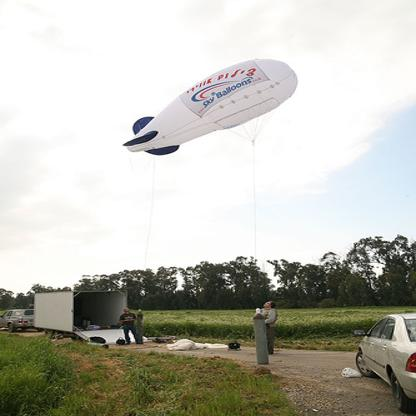Airship: (118, 57, 309, 160)
